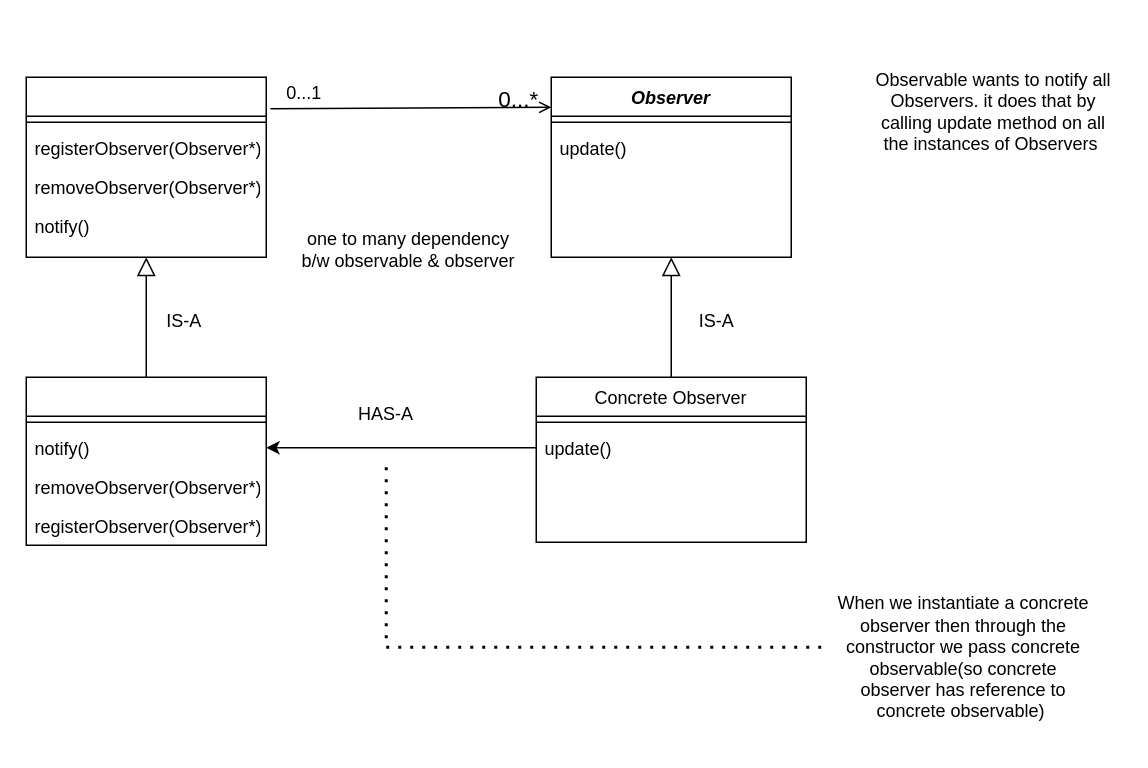
Image size: 1148x768. Some labels were removed from this diagram. The shapes that lost their labels are listed below. From the top down, each one's box as (x1, y1, x2, y2) in pixels, then its label:
(25, 76, 266, 257): Observable
(25, 376, 266, 545): Concrete Observable
